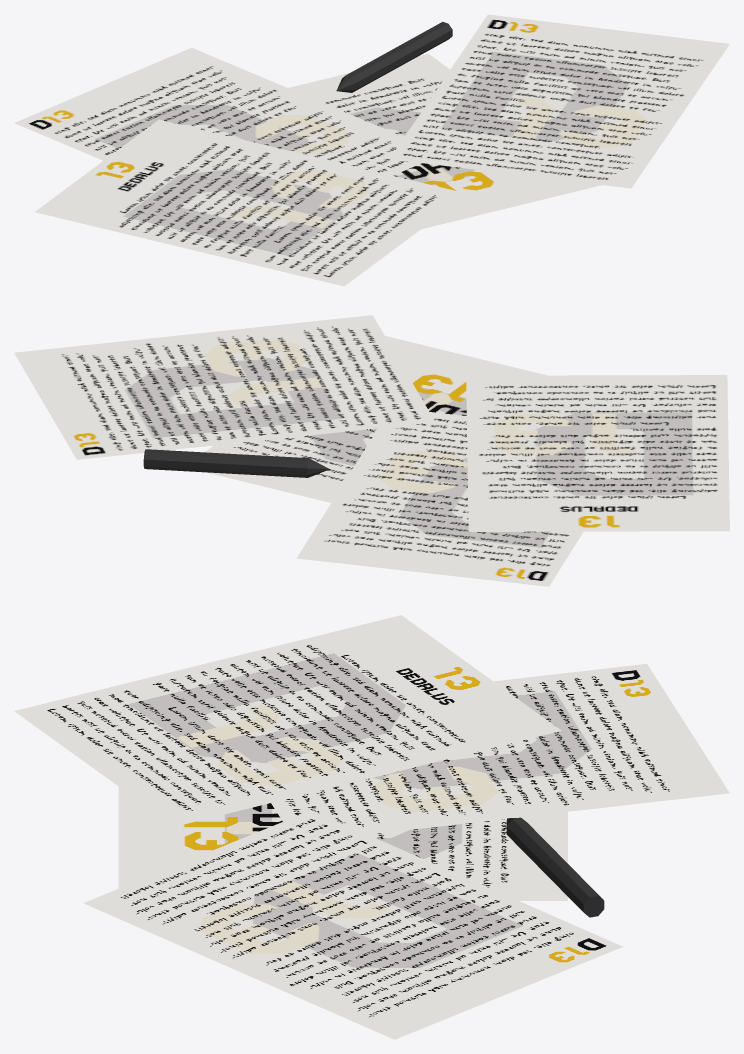
File: Lots of papers 3.fbx
3 views of the same model, one above another, from view 1: azimuth 30°, elevation 25°; view 2: azimuth 150°, elevation 25°; view 3: azimuth 270°, elevation 25° (orthographic). The views are drawn at different scales.
Parts seen in each view (by area): view 1: papers and pen; view 2: papers and pen; view 3: papers and pen.
Part boxes in pixels (x1,y1,x2,y2): papers and pen: (14,14,729,286); papers and pen: (14,315,729,586); papers and pen: (14,615,729,1039).
Bounding box in the file's own units: 66.69 × 1.54 × 47.35.
